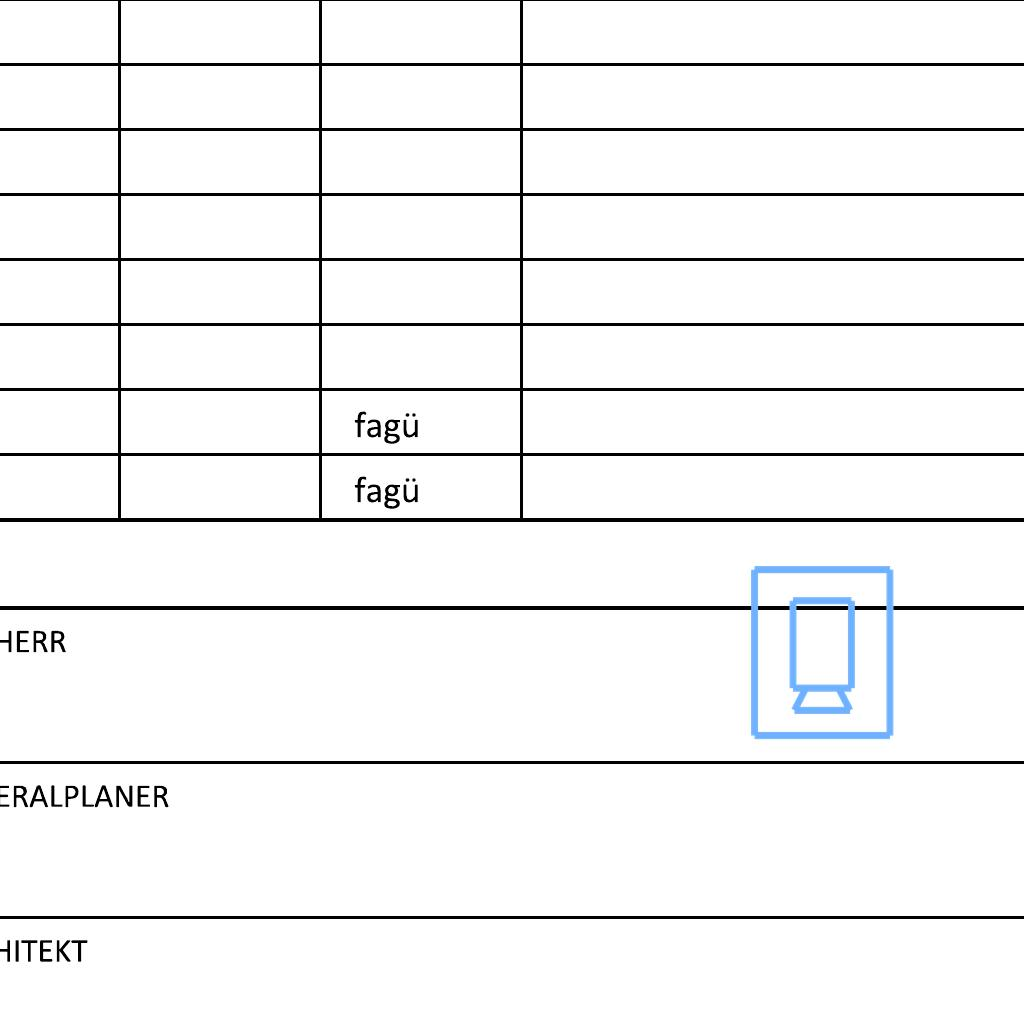KFO_Kamera_mit_Festobjektiv: (744, 561, 898, 743)
